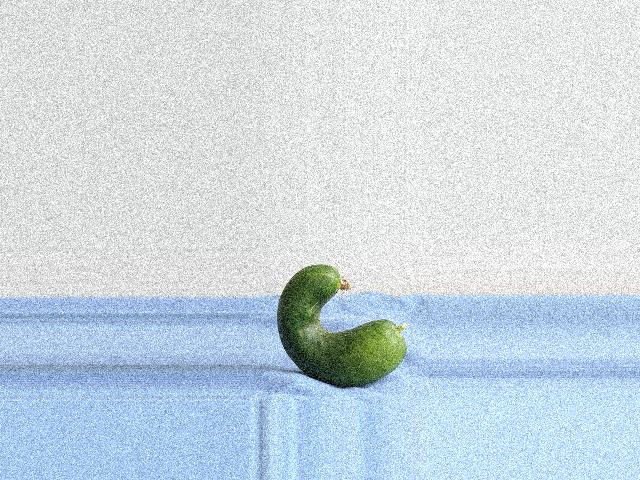cucumber: (277, 264, 407, 387)
